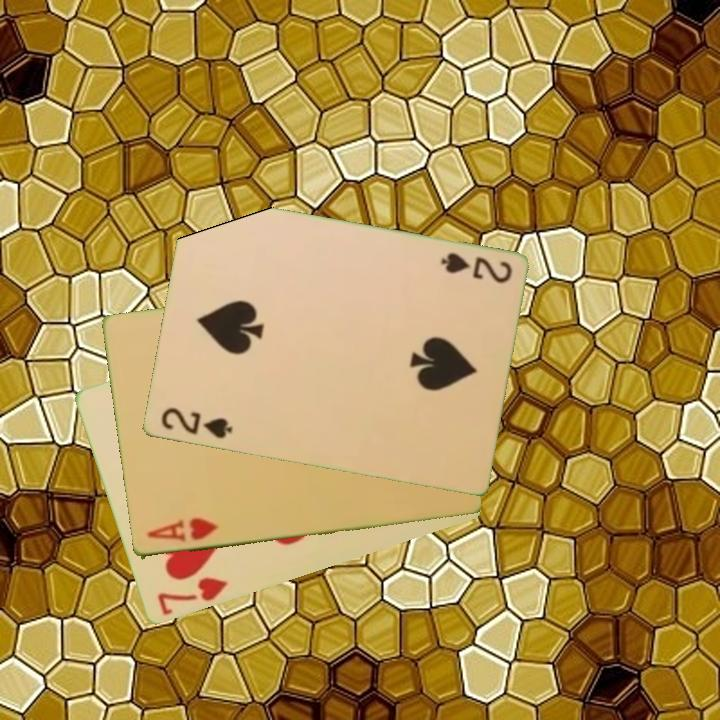2s: (157, 404, 235, 442), (437, 249, 515, 287)
7h: (154, 573, 231, 619)
Ah: (143, 515, 221, 545)
